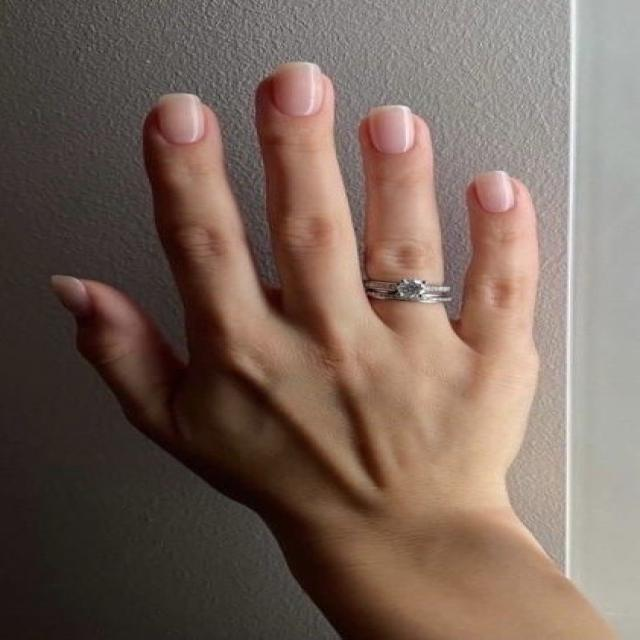Fingernail: (272, 63, 325, 116), (159, 94, 206, 144), (369, 105, 416, 154), (474, 171, 515, 213), (50, 275, 89, 316)
